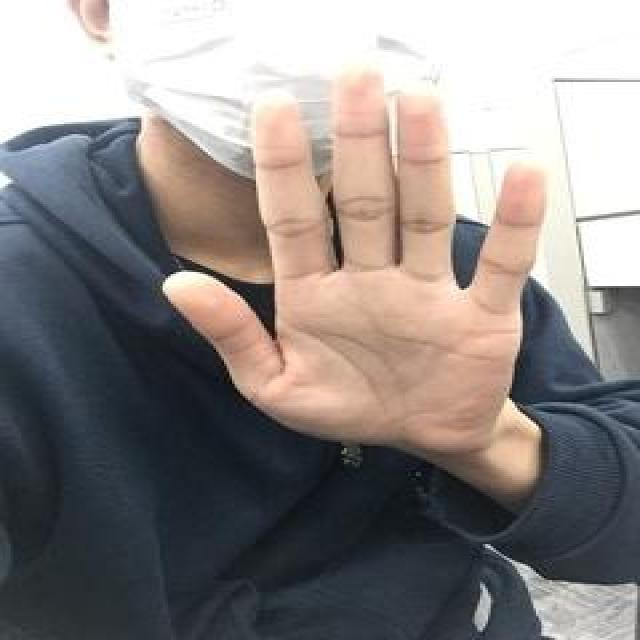hand: (160, 64, 549, 452)
